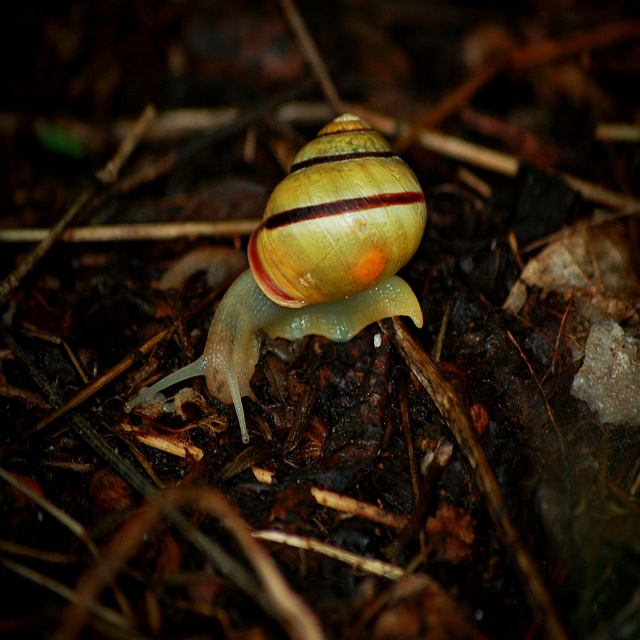Snail: (124, 107, 427, 452)
